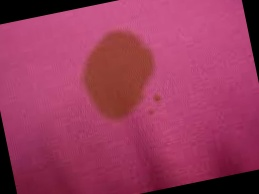oil: (70, 23, 166, 132)
